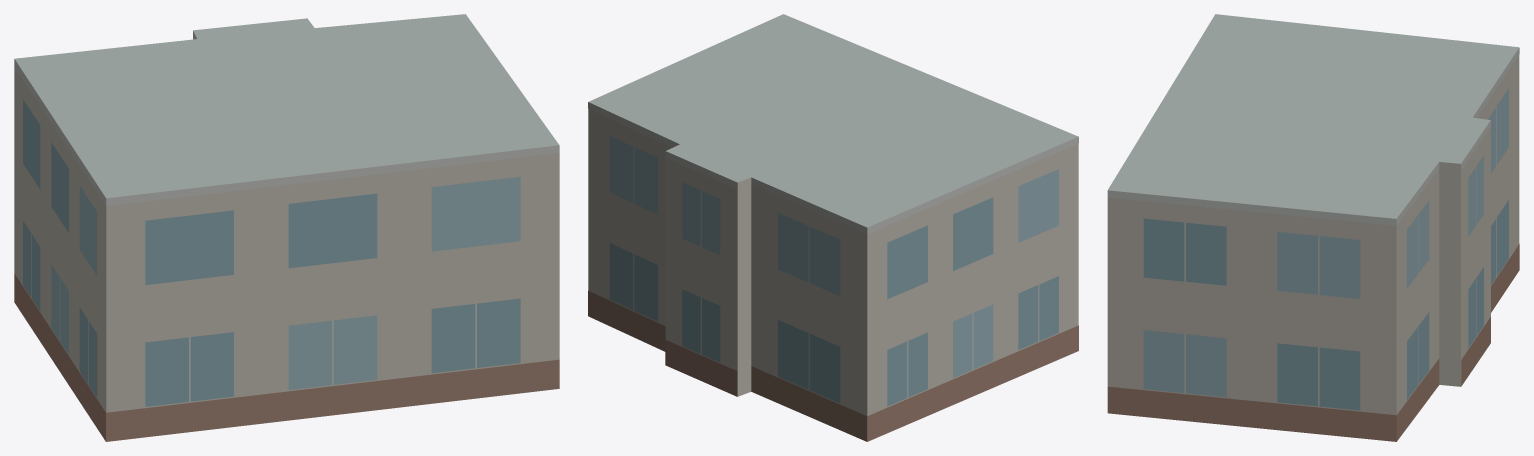
Rendered from survey-upis-32962479.glb.
3 views of the same model, side by side, from view 1: azimuth 30°, elevation 25°; view 2: azimuth 150°, elevation 25°; view 3: azimuth 270°, elevation 25° (orthographic). The views are drawn at different scales.
Parts seen in each view (by area): view 1: survey-upis-32962479.tmp; view 2: survey-upis-32962479.tmp; view 3: survey-upis-32962479.tmp.
Part boxes in pixels (<box>): survey-upis-32962479.tmp: <box>14,14,559,441</box>; survey-upis-32962479.tmp: <box>588,14,1078,441</box>; survey-upis-32962479.tmp: <box>1107,14,1519,441</box>.
Size of the model in its own units: 15.18 by 7.7 by 12.9.
